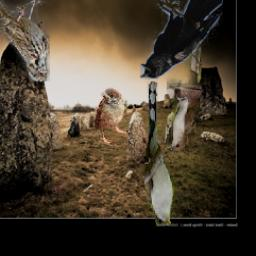Crow: (140, 0, 223, 79)
Cuckoo: (143, 82, 174, 227), (166, 37, 201, 151)
Sparrow: (0, 0, 49, 81), (86, 88, 129, 144)
